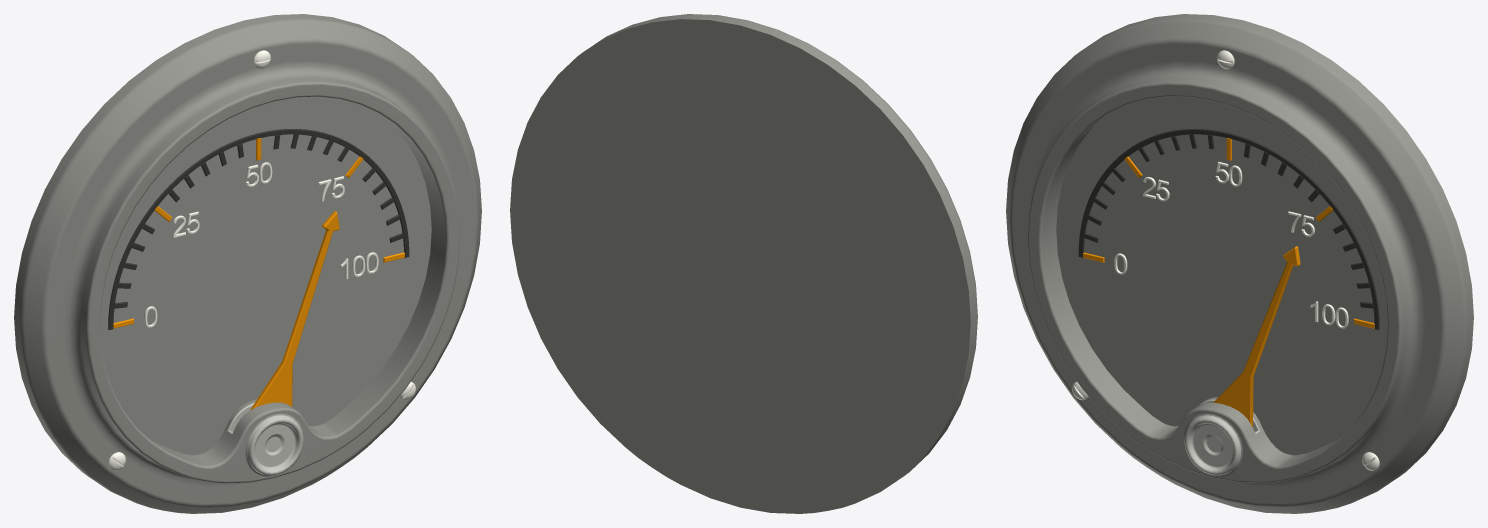
File: Speedometer #7.fbx
The picture shows the model from 3 angles, left to right: view 1: azimuth 30°, elevation 25°; view 2: azimuth 150°, elevation 25°; view 3: azimuth 330°, elevation 25°; orthographic projection.
Parts seen in each view (by area): view 1: kitbash_11; view 2: kitbash_11; view 3: kitbash_11.
Part boxes in pixels (<box>): kitbash_11: <box>14,14,481,513</box>; kitbash_11: <box>510,14,977,513</box>; kitbash_11: <box>1006,14,1473,513</box>.
Size of the model in its own units: 17.29 by 17.29 by 2.14.
